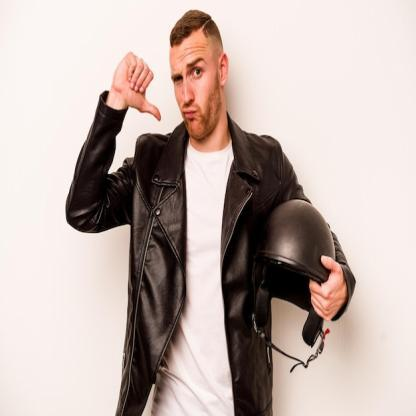thumb_down: (111, 49, 163, 124)
